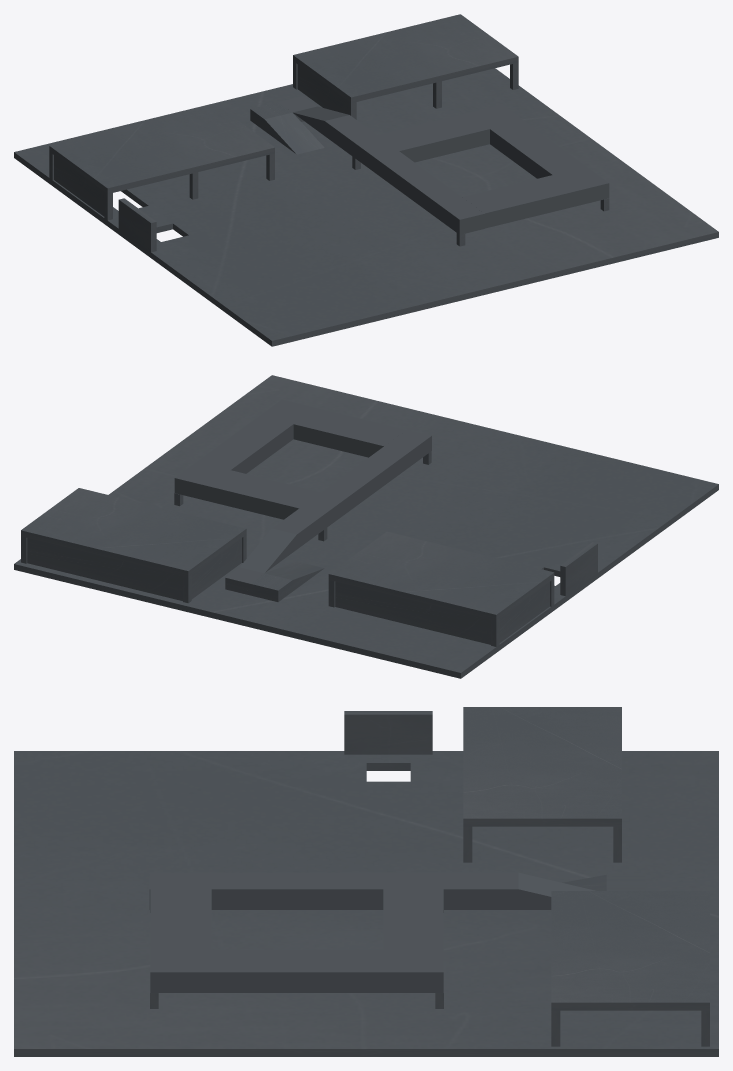
File: TrainingRoom.fbx
3 renders of one model, top to bottom at view 1: azimuth 30°, elevation 25°; view 2: azimuth 150°, elevation 25°; view 3: azimuth 270°, elevation 25°, orthographic. The views are drawn at different scales.
Visible parts, largest first — view 1: 큐브, 큐브.007, 큐브.002, 큐브.004, 큐브.003; view 2: 큐브, 큐브.007, 큐브.002, 큐브.004, 큐브.003; view 3: 큐브, 큐브.007, 큐브.002, 큐브.004, 큐브.003.
Part boxes in pixels (x1=…): 큐브: x1=14, y1=68, x2=718, y2=346; 큐브.007: x1=250, y1=96, x2=609, y2=246; 큐브.002: x1=49, y1=105, x2=274, y2=220; 큐브.004: x1=293, y1=14, x2=518, y2=119; 큐브.003: x1=118, y1=198, x2=156, y2=252; 큐브: x1=14, y1=375, x2=718, y2=678; 큐브.007: x1=174, y1=399, x2=431, y2=601; 큐브.002: x1=328, y1=531, x2=554, y2=646; 큐브.004: x1=21, y1=488, x2=246, y2=603; 큐브.003: x1=560, y1=542, x2=597, y2=596; 큐브: x1=14, y1=751, x2=718, y2=1056; 큐브.007: x1=149, y1=872, x2=645, y2=1008; 큐브.002: x1=463, y1=707, x2=621, y2=862; 큐브.004: x1=551, y1=891, x2=709, y2=1046; 큐브.003: x1=344, y1=711, x2=432, y2=754.
Size of the model in its own units: 16000 by 1300 by 16000.
Materials: 5 (5 with a texture image).
